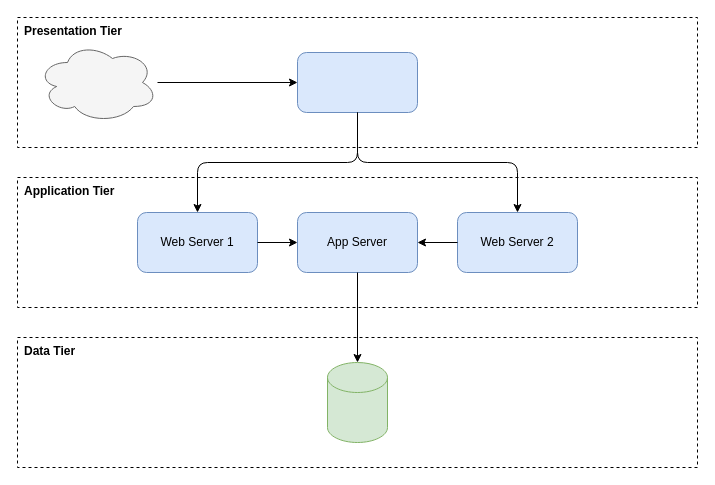
This 715x485 diagram has some shape labels left out. Each missing label, with the centre of its shape:
"Database" belongs at pixel 357 402.
"Internet" belongs at pixel 97 82.
"Load Balancer" belongs at pixel 357 82.
